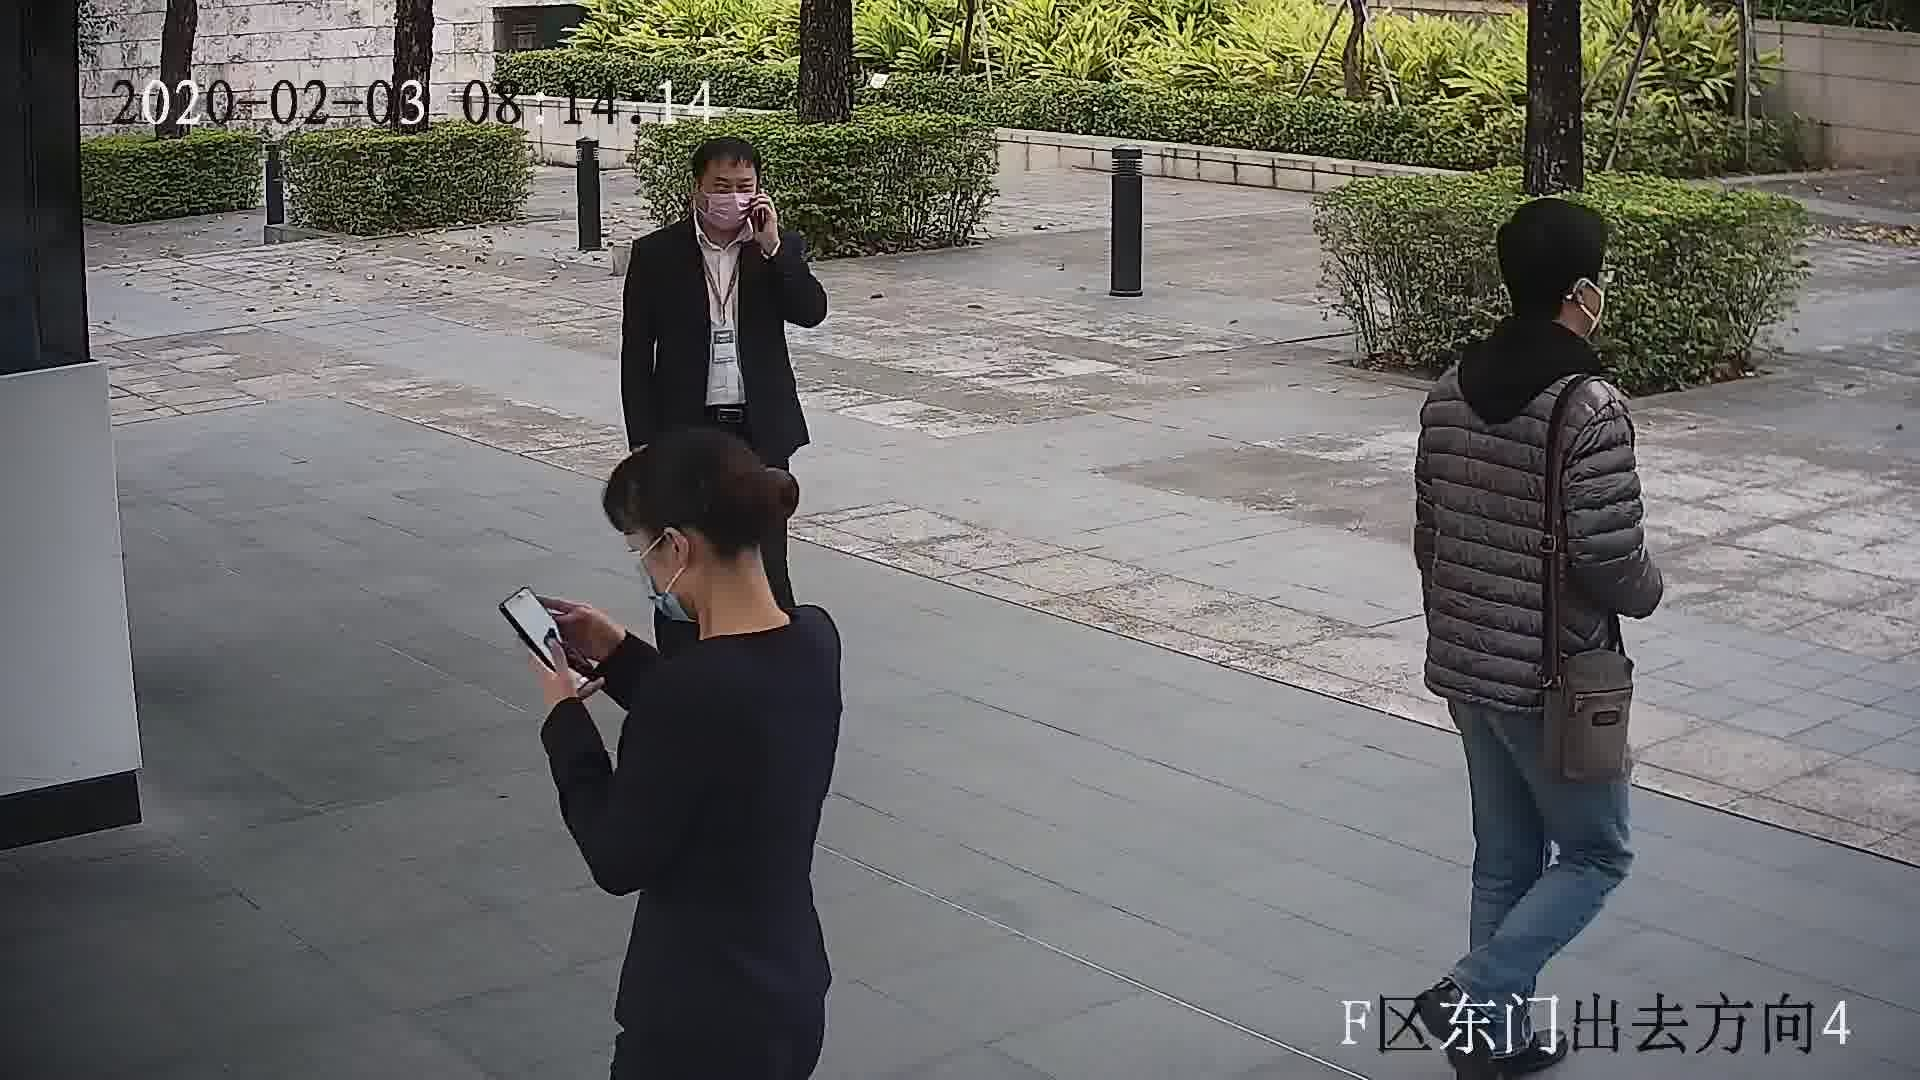face: (630, 508, 733, 626), (686, 151, 762, 227)
mask: (625, 552, 699, 625), (701, 188, 765, 228)
person: (498, 435, 839, 739), (1429, 193, 1636, 444), (632, 137, 801, 285)
